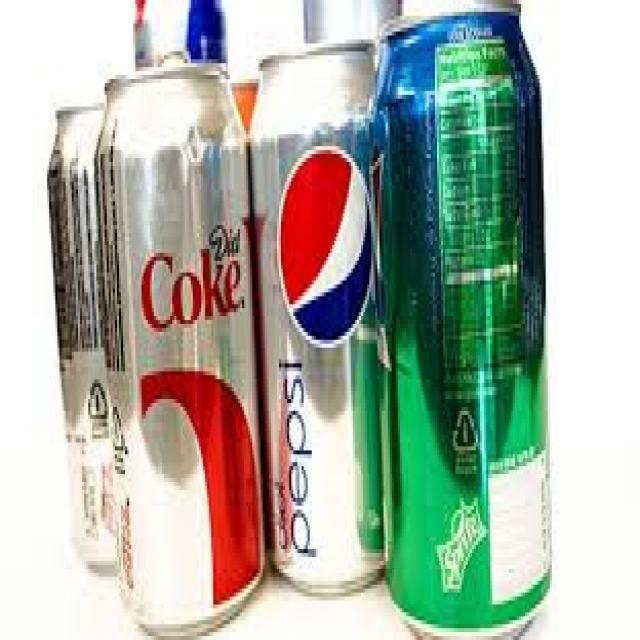recyclable: (376, 0, 554, 640), (95, 59, 264, 640), (250, 40, 396, 603), (48, 104, 137, 576)
